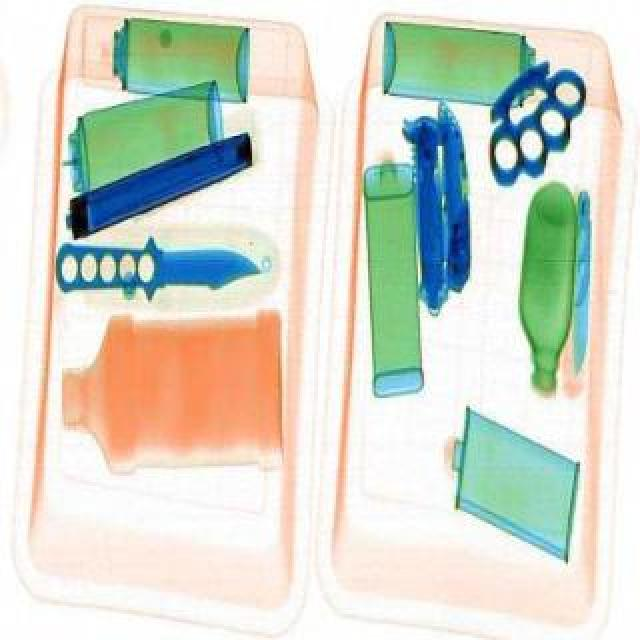knife: (448, 44, 614, 196), (54, 242, 262, 286), (402, 114, 450, 302), (434, 98, 474, 290), (566, 188, 594, 368)
